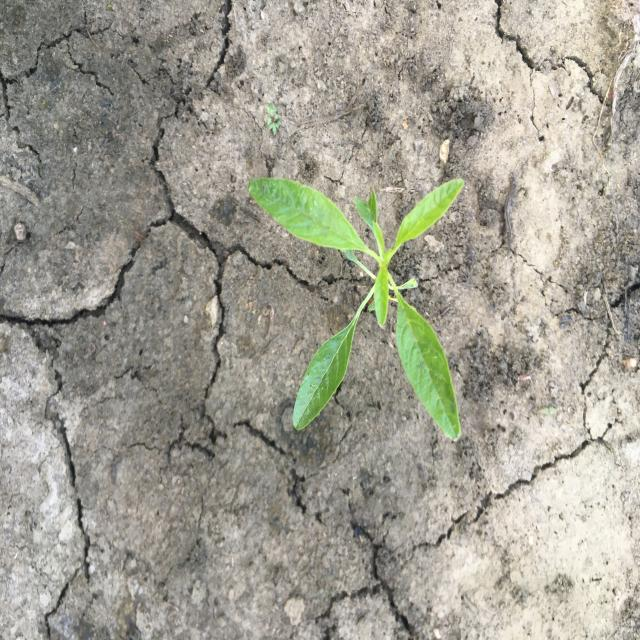Waterhemp: (246, 177, 466, 442)
